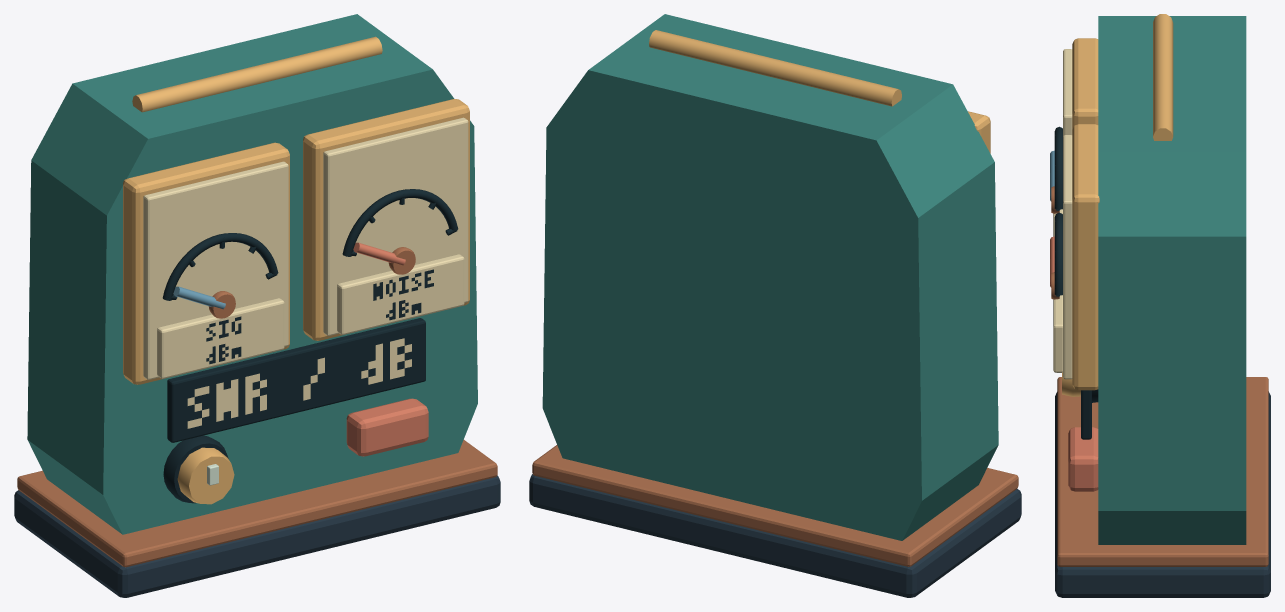
3 renders of one model, left to right at view 1: azimuth 30°, elevation 25°; view 2: azimuth 150°, elevation 25°; view 3: azimuth 270°, elevation 25°, orthographic. The views are drawn at different scales.
Visible parts, largest first — view 1: PR074 enamel and hardware; view 2: PR074 enamel and hardware; view 3: PR074 enamel and hardware.
Boxes of the visible parts, box(x1,y1,x2,y2) form: PR074 enamel and hardware: box(14, 14, 500, 597); PR074 enamel and hardware: box(529, 14, 1021, 597); PR074 enamel and hardware: box(1050, 14, 1270, 597).
Bounding box in the file's own units: 1 × 1.12 × 0.5118.
